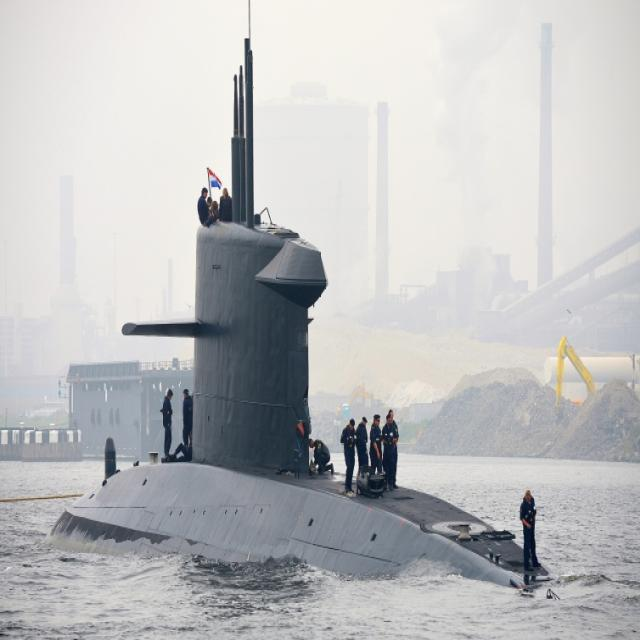submarine: (53, 1, 559, 592)
